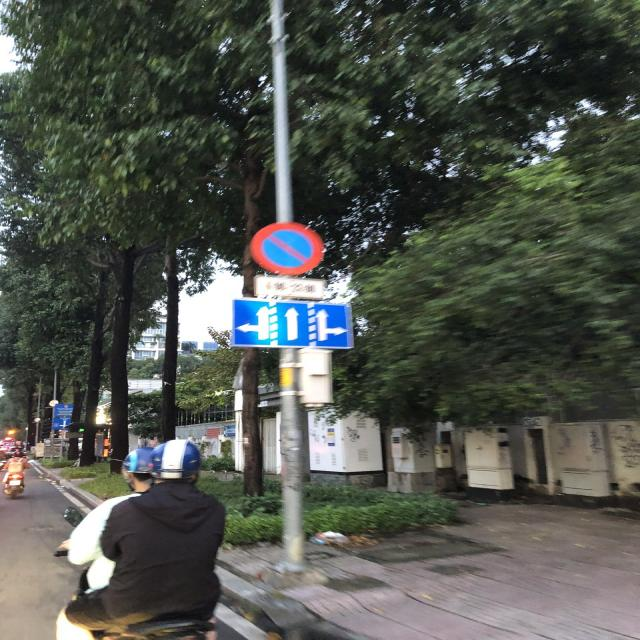Bien bao cam do xe: (246, 216, 327, 276)
